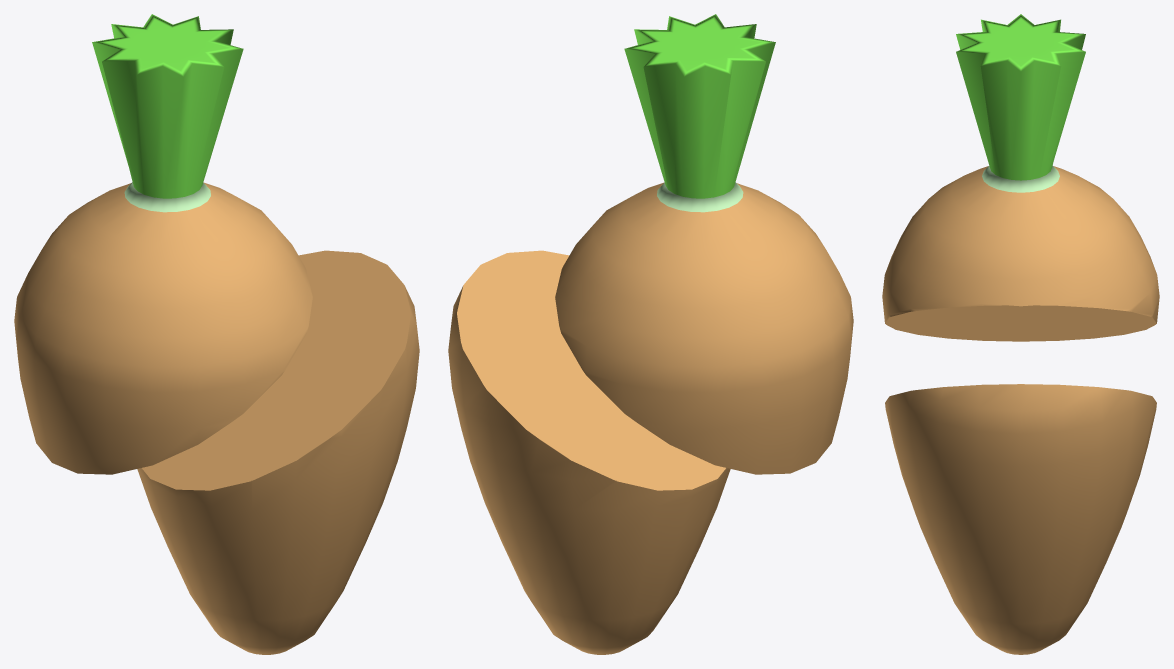
File: ninzin_2.fbx
The picture shows the model from 3 angles, left to right: view 1: azimuth 30°, elevation 25°; view 2: azimuth 150°, elevation 25°; view 3: azimuth 270°, elevation 25°; orthographic projection. The views are drawn at different scales.
Parts seen in each view (by area): view 1: pSphere4; view 2: pSphere4; view 3: pSphere4.
Part boxes in pixels (x1,y1,x2,y2): pSphere4: [14, 14, 419, 654]; pSphere4: [448, 14, 853, 654]; pSphere4: [882, 14, 1159, 654].
Size of the model in its own units: 2.47 by 4.08 by 1.8.
